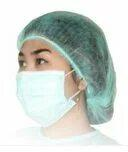hairnet: (15, 8, 124, 133)
mask: (10, 63, 84, 134)
